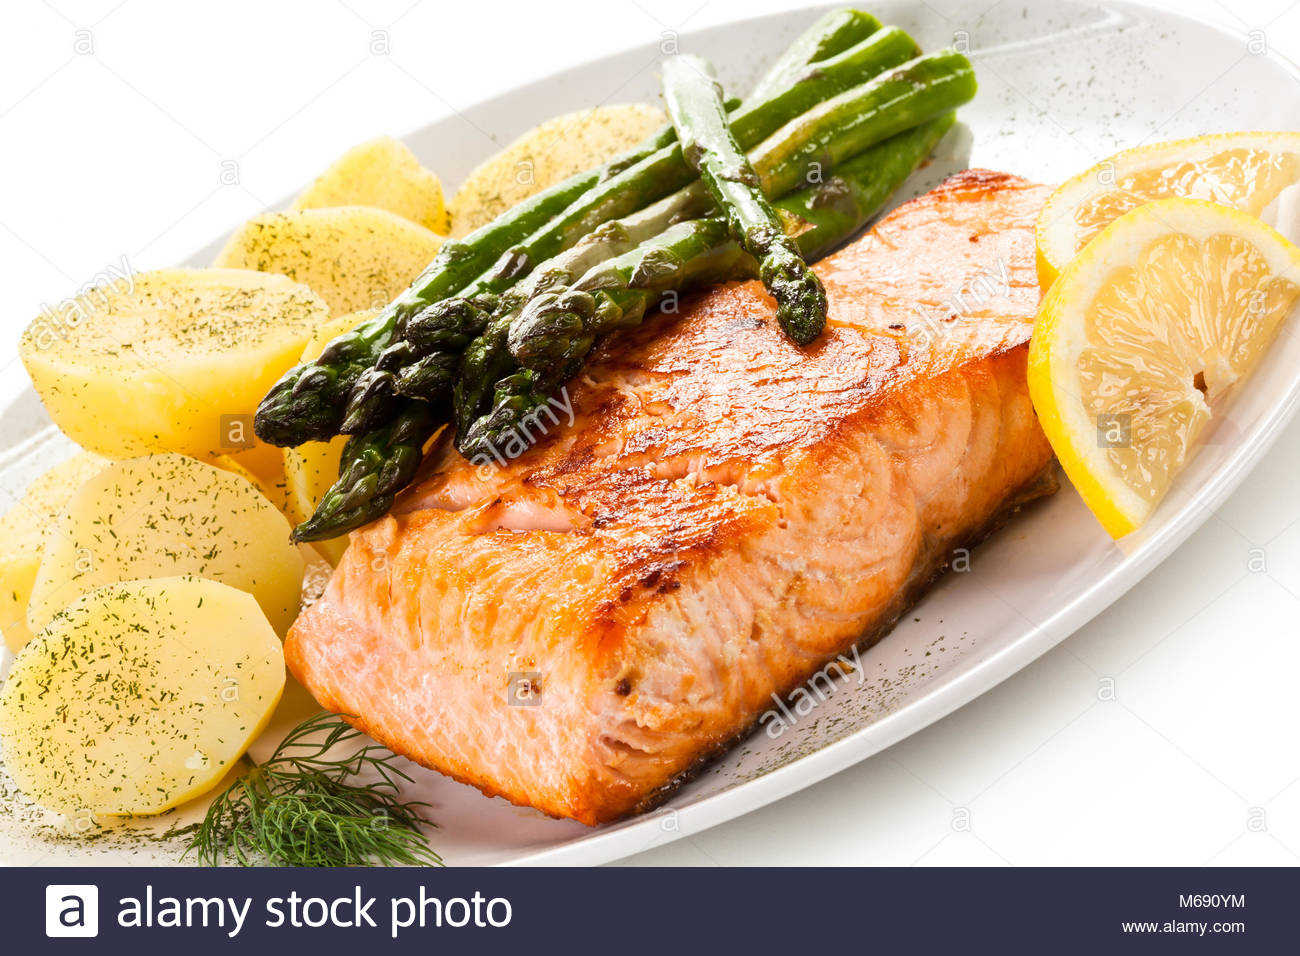boiled potatoes: (57, 315, 283, 808)
